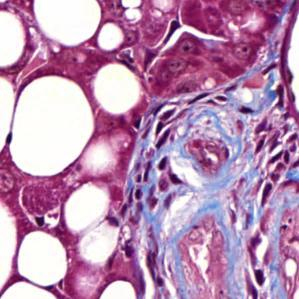steatosis: (94, 56, 142, 118)
